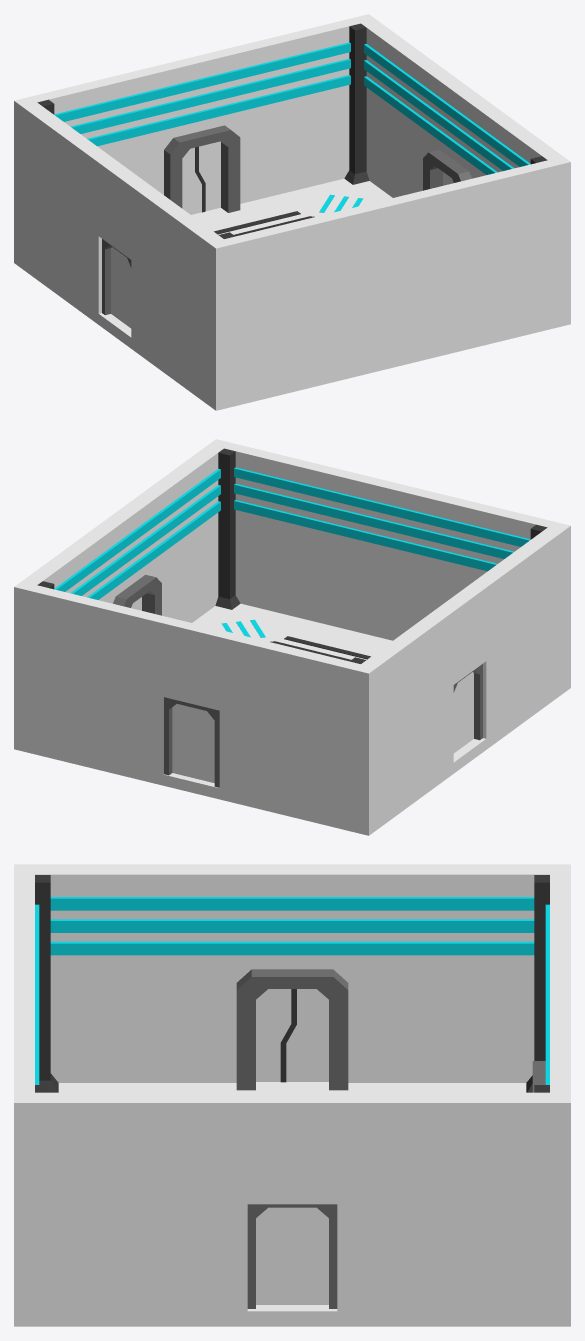
The model's file is SciFiRoom5.fbx.
The picture shows the model from 3 angles, top to bottom: view 1: azimuth 30°, elevation 25°; view 2: azimuth 150°, elevation 25°; view 3: azimuth 270°, elevation 25°; orthographic projection. The views are drawn at different scales.
Visible parts, largest first — view 1: Plane.020, Plane.002, Plane.026, Cube.005, Plane.021, Door2.038, Plane.025, Cube.002, Plane.024, Plane.019, Plane.023, Plane.004 (+1 smaller); view 2: Plane.026, Plane.002, Plane.020, Cube.005, Plane.021, Door2.038, Cube.002, Plane.023, Plane.024, Plane.025, Plane.019, Plane.014 (+2 smaller); view 3: Plane.021, Plane.002, Cube.005, Door2.038, Plane.015, Cube.002, Plane.020, Plane.026, Plane.017, Plane.004, Plane.018, Plane.014 (+2 smaller).
Boxes of the visible parts, x1=… form: Plane.020: x1=216, y1=160, x2=570, y2=399; Plane.002: x1=14, y1=100, x2=223, y2=399; Plane.026: x1=15, y1=14, x2=368, y2=203; Cube.005: x1=54, y1=42, x2=530, y2=212; Plane.021: x1=361, y1=14, x2=570, y2=197; Door2.038: x1=14, y1=178, x2=570, y2=410; Plane.025: x1=164, y1=125, x2=240, y2=212; Cube.002: x1=37, y1=23, x2=547, y2=238; Plane.024: x1=199, y1=141, x2=220, y2=211; Plane.019: x1=423, y1=149, x2=471, y2=190; Plane.023: x1=182, y1=147, x2=201, y2=214; Plane.004: x1=111, y1=247, x2=127, y2=325; Plane.026: x1=14, y1=585, x2=368, y2=824; Plane.002: x1=361, y1=525, x2=570, y2=824; Plane.020: x1=216, y1=439, x2=569, y2=640; Cube.005: x1=54, y1=467, x2=530, y2=637; Plane.021: x1=14, y1=439, x2=223, y2=622; Door2.038: x1=14, y1=603, x2=570, y2=835; Cube.002: x1=37, y1=448, x2=547, y2=663; Plane.023: x1=189, y1=708, x2=214, y2=782; Plane.024: x1=172, y1=704, x2=195, y2=776; Plane.025: x1=163, y1=697, x2=219, y2=787; Plane.019: x1=113, y1=574, x2=161, y2=615; Plane.014: x1=460, y1=672, x2=473, y2=745; Plane.021: x1=14, y1=1092, x2=570, y2=1311; Plane.002: x1=14, y1=864, x2=570, y2=1082; Cube.005: x1=35, y1=897, x2=549, y2=1084; Door2.038: x1=14, y1=1082, x2=570, y2=1326; Plane.015: x1=236, y1=969, x2=348, y2=1090; Cube.002: x1=35, y1=875, x2=549, y2=1092; Plane.020: x1=14, y1=864, x2=34, y2=1102; Plane.026: x1=550, y1=864, x2=570, y2=1102; Plane.017: x1=282, y1=1207, x2=328, y2=1304; Plane.004: x1=286, y1=989, x2=328, y2=1081; Plane.018: x1=256, y1=1207, x2=293, y2=1304; Plane.014: x1=256, y1=989, x2=291, y2=1081.
Size of the model in its own units: 1658 by 725 by 1635.
1 material, 1 textured.
